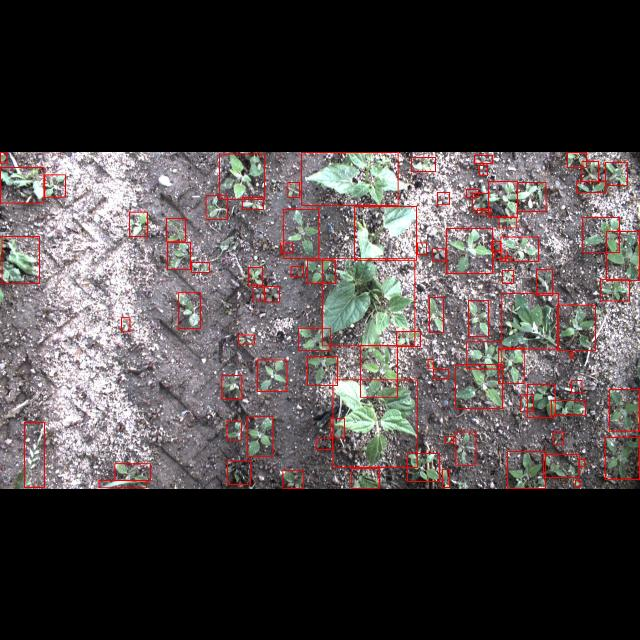crop: (322, 258, 414, 346), (333, 379, 417, 467), (302, 152, 398, 204), (354, 205, 416, 259), (502, 293, 558, 349), (456, 364, 502, 408), (446, 228, 492, 272), (360, 345, 398, 397), (220, 154, 264, 198), (558, 304, 596, 350), (284, 208, 318, 258), (606, 230, 640, 280), (604, 437, 640, 479), (582, 216, 620, 252), (507, 452, 545, 488), (609, 389, 639, 431), (488, 180, 518, 216), (407, 452, 439, 482), (248, 416, 272, 456), (527, 383, 555, 417), (498, 347, 524, 383), (466, 342, 502, 368), (501, 236, 539, 260), (257, 360, 287, 390), (307, 356, 337, 384), (544, 454, 578, 478), (178, 292, 200, 328), (518, 182, 546, 210), (468, 300, 488, 336), (298, 328, 330, 350), (600, 278, 630, 300), (306, 260, 336, 282), (456, 432, 476, 464), (168, 242, 190, 268), (351, 468, 379, 488), (429, 296, 443, 332), (605, 162, 627, 184), (551, 400, 585, 414), (129, 210, 147, 236), (167, 218, 186, 240), (283, 469, 303, 488), (576, 180, 606, 192), (226, 420, 242, 440), (568, 152, 586, 166), (442, 469, 450, 487)
weed: (2, 235, 40, 282), (0, 166, 44, 202), (24, 422, 44, 486), (114, 464, 150, 481), (206, 195, 228, 219), (228, 461, 250, 484), (44, 174, 66, 196), (222, 375, 242, 399), (536, 269, 552, 295), (396, 330, 420, 346), (98, 480, 146, 488), (411, 156, 435, 172), (582, 160, 598, 180), (472, 192, 488, 210), (330, 418, 344, 438), (242, 196, 264, 208), (248, 266, 262, 284), (520, 394, 534, 412), (264, 286, 280, 300), (499, 217, 517, 227), (192, 262, 210, 272), (288, 182, 300, 196), (253, 286, 265, 300), (432, 248, 446, 260), (316, 438, 332, 448), (238, 334, 254, 344), (502, 270, 514, 282), (475, 154, 493, 162), (437, 192, 449, 204), (434, 368, 448, 378), (553, 432, 563, 444), (572, 380, 582, 392), (291, 265, 303, 275), (280, 242, 292, 252), (417, 242, 427, 254), (122, 317, 130, 331), (495, 250, 507, 258), (466, 188, 478, 196), (492, 240, 501, 250), (479, 164, 487, 174), (1, 152, 8, 162), (446, 436, 454, 444), (477, 208, 491, 212), (579, 459, 585, 467), (428, 358, 432, 368), (576, 480, 580, 486), (570, 352, 574, 358), (506, 256, 512, 260)
